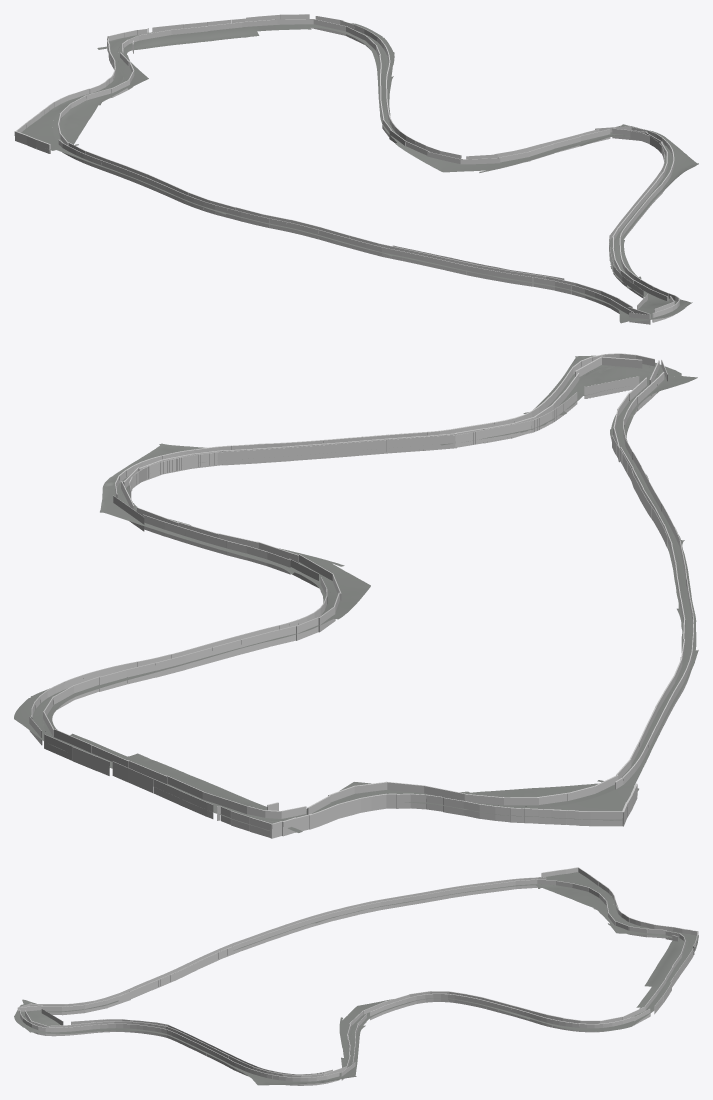
Rendered from physics.glb.
3 views of the same model, one above another, from view 1: azimuth 30°, elevation 25°; view 2: azimuth 150°, elevation 25°; view 3: azimuth 270°, elevation 25° (orthographic). The views are drawn at different scales.
Parts seen in each view (by area): view 1: Physics.Concrete.002, Physics.Gravel.001, Physics.Concrete.001, Physics.Tarmac.001; view 2: Physics.Concrete.002, Physics.Gravel.001, Physics.Concrete.001, Physics.Tarmac.001; view 3: Physics.Concrete.002, Physics.Gravel.001, Physics.Concrete.001, Physics.Tarmac.001.
Part boxes in pixels (bbox=[...]): Physics.Concrete.002: bbox=[14, 14, 679, 324]; Physics.Gravel.001: bbox=[14, 32, 698, 323]; Physics.Concrete.001: bbox=[22, 23, 685, 321]; Physics.Tarmac.001: bbox=[53, 24, 677, 317]; Physics.Concrete.002: bbox=[29, 353, 693, 838]; Physics.Gravel.001: bbox=[17, 355, 698, 831]; Physics.Concrete.001: bbox=[14, 362, 693, 832]; Physics.Tarmac.001: bbox=[33, 365, 692, 823]; Physics.Concrete.002: bbox=[17, 867, 698, 1085]; Physics.Gravel.001: bbox=[22, 872, 698, 1085]; Physics.Concrete.001: bbox=[14, 872, 692, 1064]; Physics.Tarmac.001: bbox=[21, 883, 693, 1075].
Bounding box in the file's own units: 1025 × 70.46 × 1444.
Materials: 4 (4 with a texture image).
